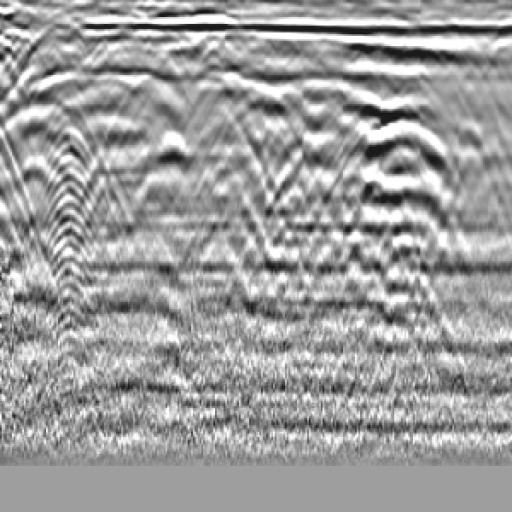metalic: (63, 57, 237, 279), (140, 58, 293, 302)
non-metallic: (337, 80, 468, 200)
